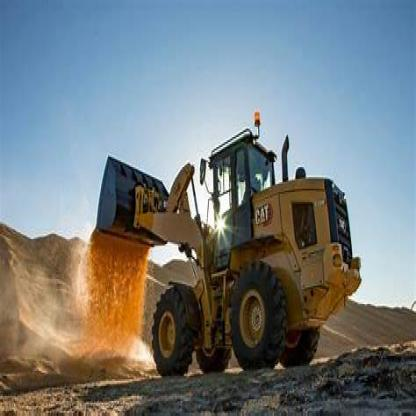bull_dozer/loader/grader: (90, 127, 368, 388)
